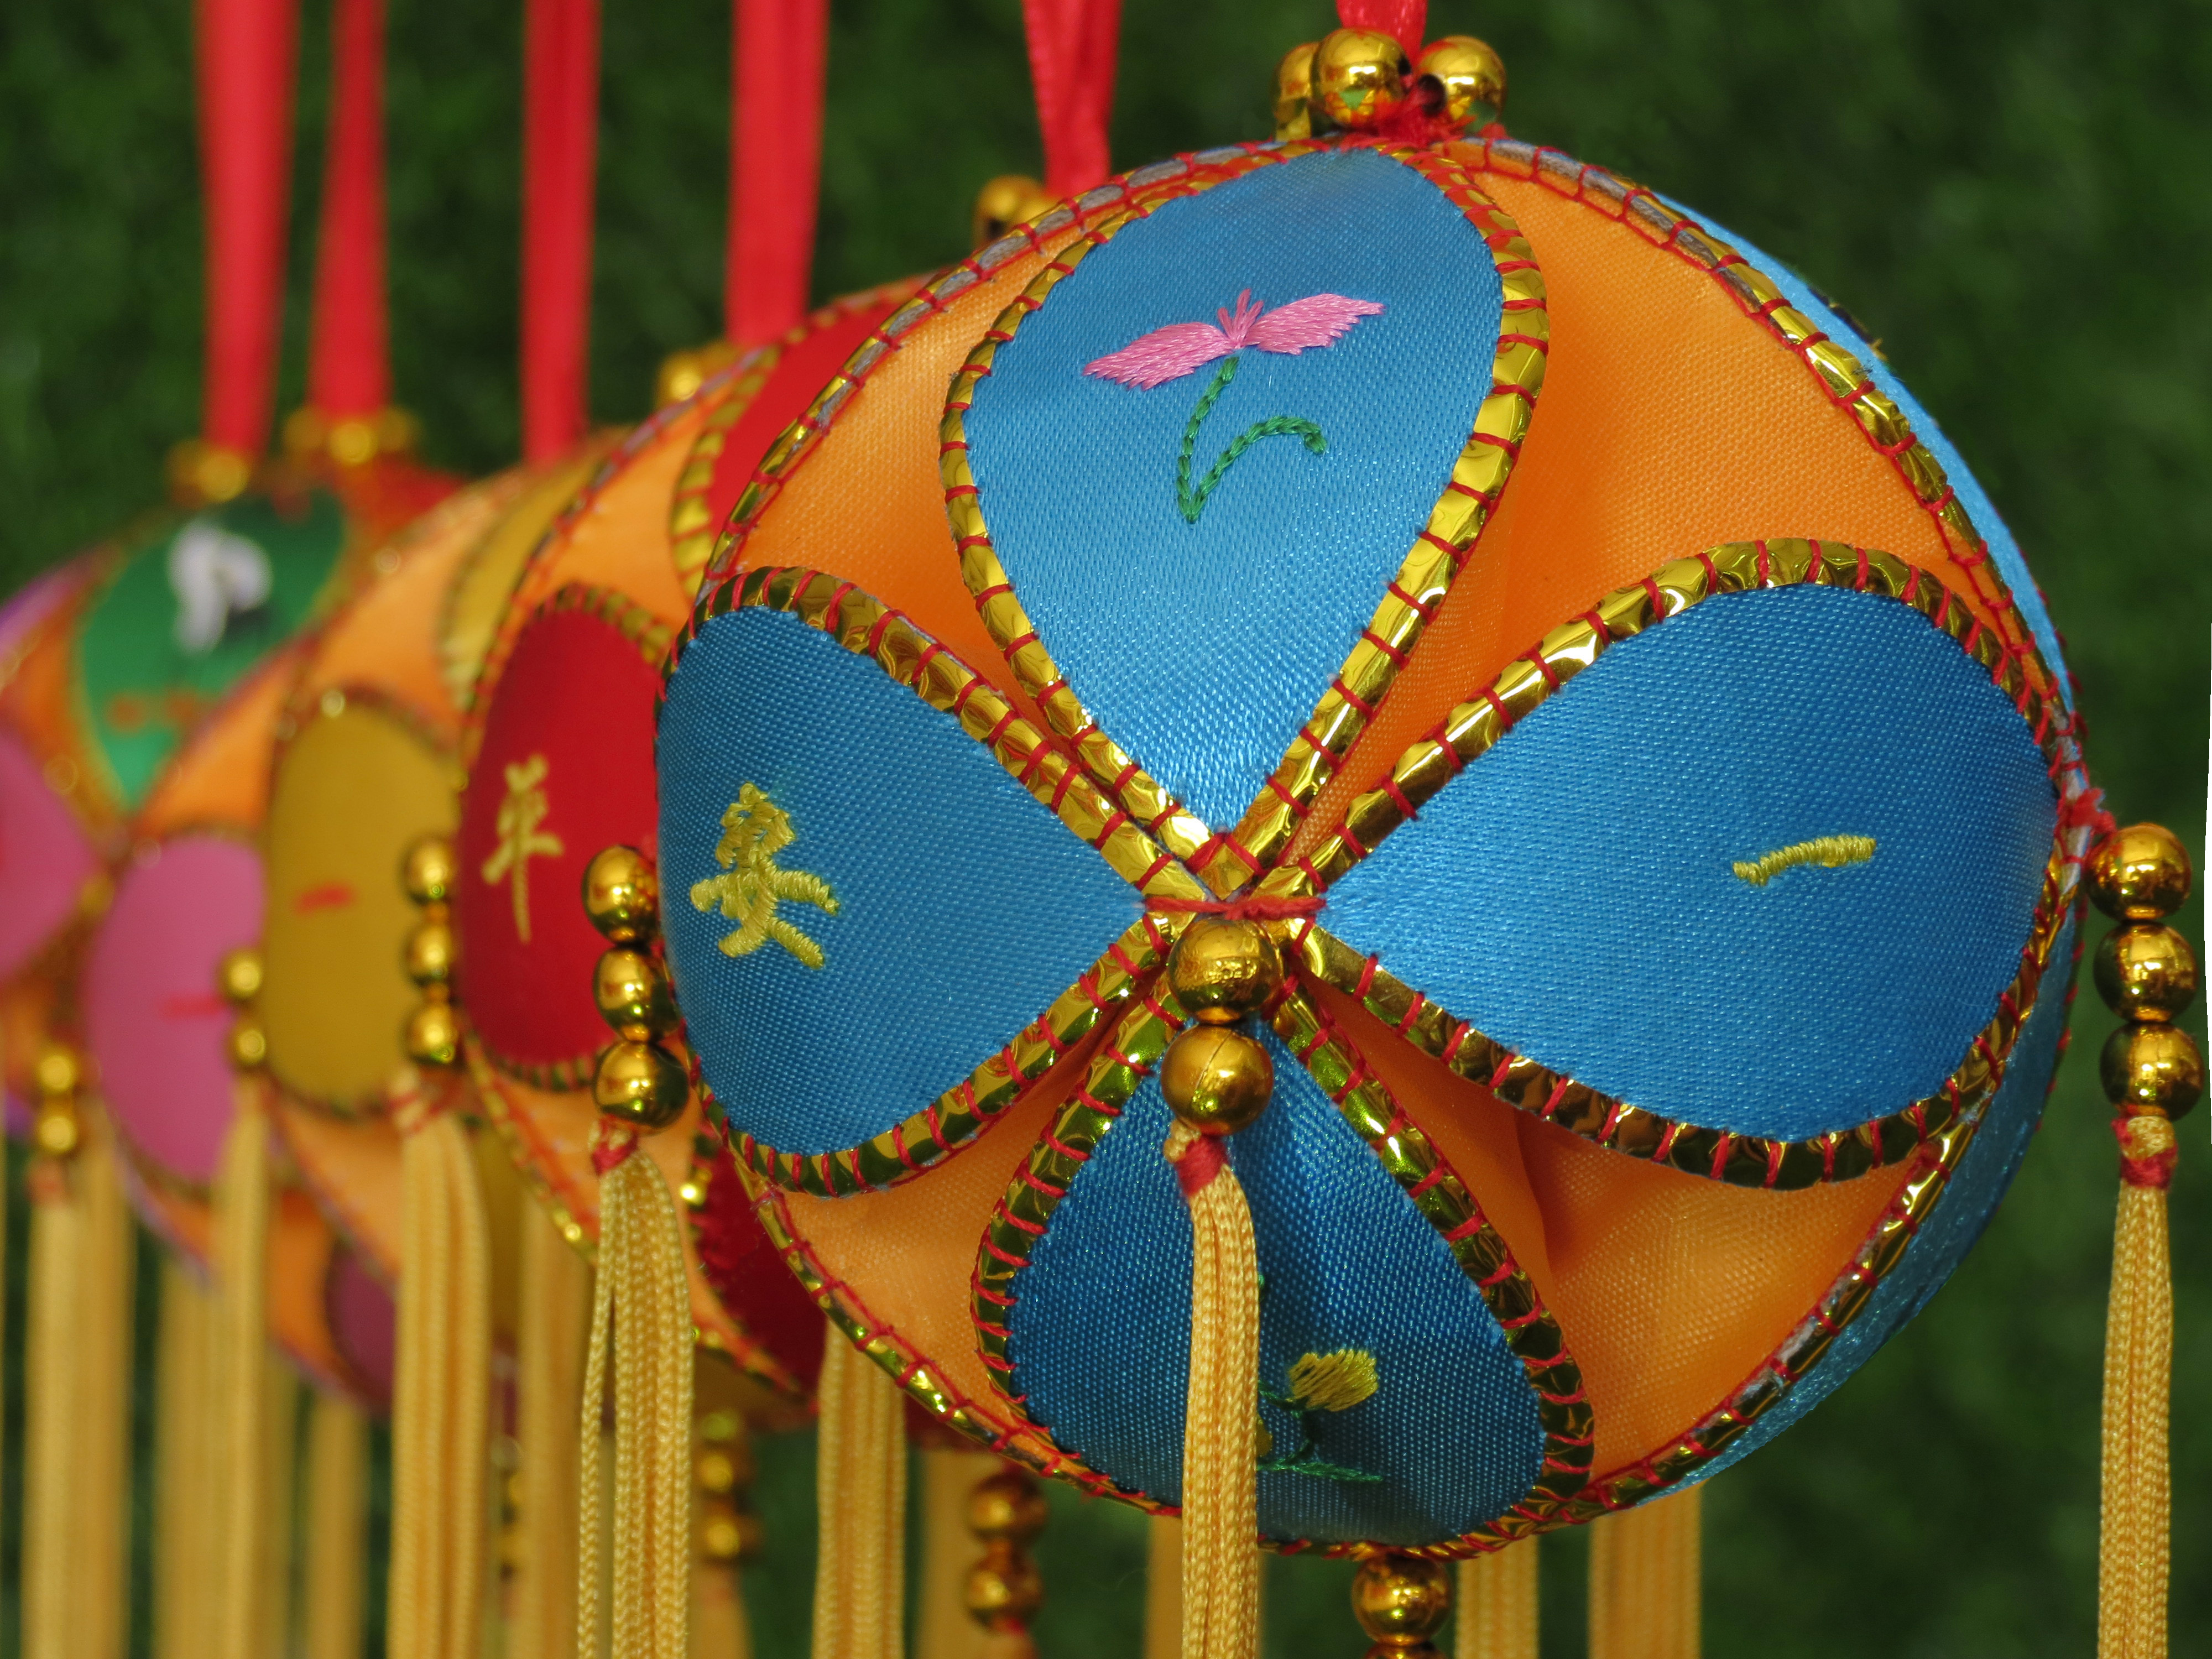xiuqiu: (665, 141, 2111, 1561)
